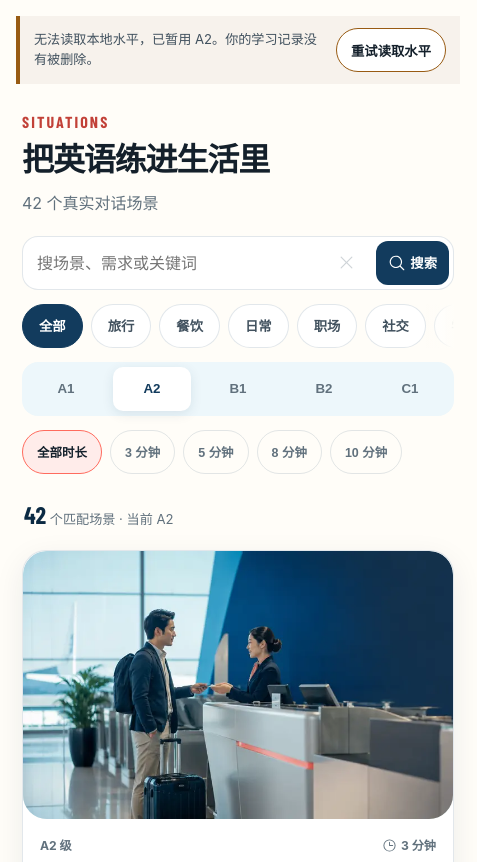
SceneLibrary › recovers from a rejected profile read with an accessible A2 fallback and retry
This screenshot has width=477, height=862.
Expected: the message "无法读取本地水平，已暂用 A2。你的学习记录没有被删除。 重试读取水平" is shown, [16,16,460,84]
Click the button "重试读取水平": (391, 50) [336,28,446,72]
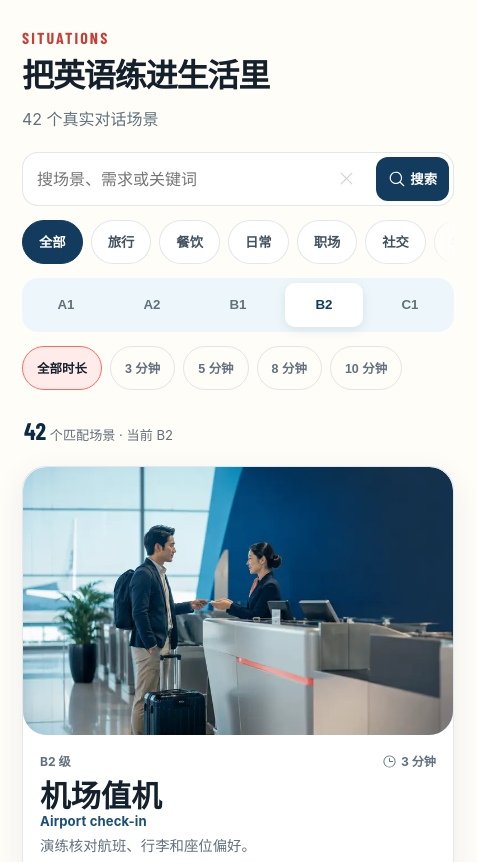
Expected: the message "无法读取本地水平，已暂用 A2。你的学习记录没有被删除。 重试读取水平" is gone
